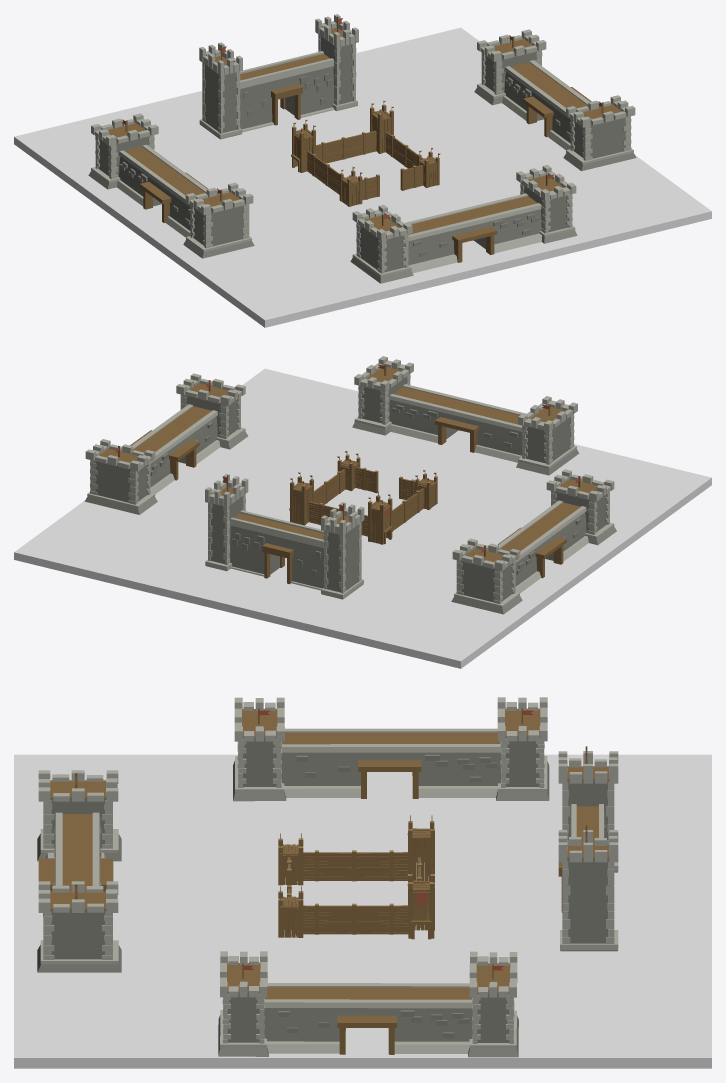
Rendered from map.glb.
The picture shows the model from 3 angles, top to bottom: view 1: azimuth 30°, elevation 25°; view 2: azimuth 150°, elevation 25°; view 3: azimuth 270°, elevation 25°; orthographic projection. The views are drawn at different scales.
Parts seen in each view (by area): view 1: 立方體, WallTowers_Door_SecondAge.004, WallTowers_Door_SecondAge, WallTowers_Door_SecondAge.003, WallTowers_Door_SecondAge.001, WonderWalls_FirstAge; view 2: 立方體, WallTowers_Door_SecondAge.004, WallTowers_Door_SecondAge, WallTowers_Door_SecondAge.003, WallTowers_Door_SecondAge.001, WonderWalls_FirstAge; view 3: 立方體, WallTowers_Door_SecondAge.003, WallTowers_Door_SecondAge.001, WallTowers_Door_SecondAge.004, WonderWalls_FirstAge, WallTowers_Door_SecondAge.
Part boxes in pixels (x1=…): 立方體: x1=14, y1=27, x2=711, y2=327; WallTowers_Door_SecondAge.004: x1=350, y1=165, x2=577, y2=283; WallTowers_Door_SecondAge: x1=199, y1=14, x2=358, y2=139; WallTowers_Door_SecondAge.003: x1=88, y1=113, x2=254, y2=258; WallTowers_Door_SecondAge.001: x1=474, y1=29, x2=636, y2=171; WonderWalls_FirstAge: x1=291, y1=100, x2=440, y2=206; 立方體: x1=14, y1=368, x2=711, y2=668; WallTowers_Door_SecondAge.004: x1=352, y1=356, x2=579, y2=475; WallTowers_Door_SecondAge: x1=205, y1=474, x2=364, y2=599; WallTowers_Door_SecondAge.003: x1=451, y1=469, x2=616, y2=614; WallTowers_Door_SecondAge.001: x1=84, y1=373, x2=247, y2=514; WonderWalls_FirstAge: x1=289, y1=451, x2=437, y2=544; 立方體: x1=14, y1=754, x2=711, y2=1068; WallTowers_Door_SecondAge.003: x1=233, y1=697, x2=549, y2=801; WallTowers_Door_SecondAge.001: x1=218, y1=951, x2=518, y2=1057; WallTowers_Door_SecondAge.004: x1=37, y1=770, x2=121, y2=972; WonderWalls_FirstAge: x1=278, y1=815, x2=434, y2=939; WallTowers_Door_SecondAge: x1=558, y1=746, x2=618, y2=951.
Bounding box in the file's own units: 33.63 × 6.75 × 32.7.
